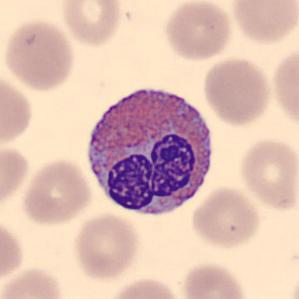Eosinophil: (80, 76, 222, 225)
RBC: (1, 17, 76, 93), (20, 156, 94, 228), (200, 55, 273, 127), (71, 212, 142, 282), (189, 184, 263, 250), (237, 136, 298, 213), (161, 0, 235, 63), (228, 0, 298, 45), (59, 0, 123, 48), (0, 71, 36, 149), (180, 259, 248, 299), (269, 45, 299, 129), (0, 264, 66, 298), (0, 142, 32, 211), (0, 214, 27, 287), (106, 274, 184, 299)
